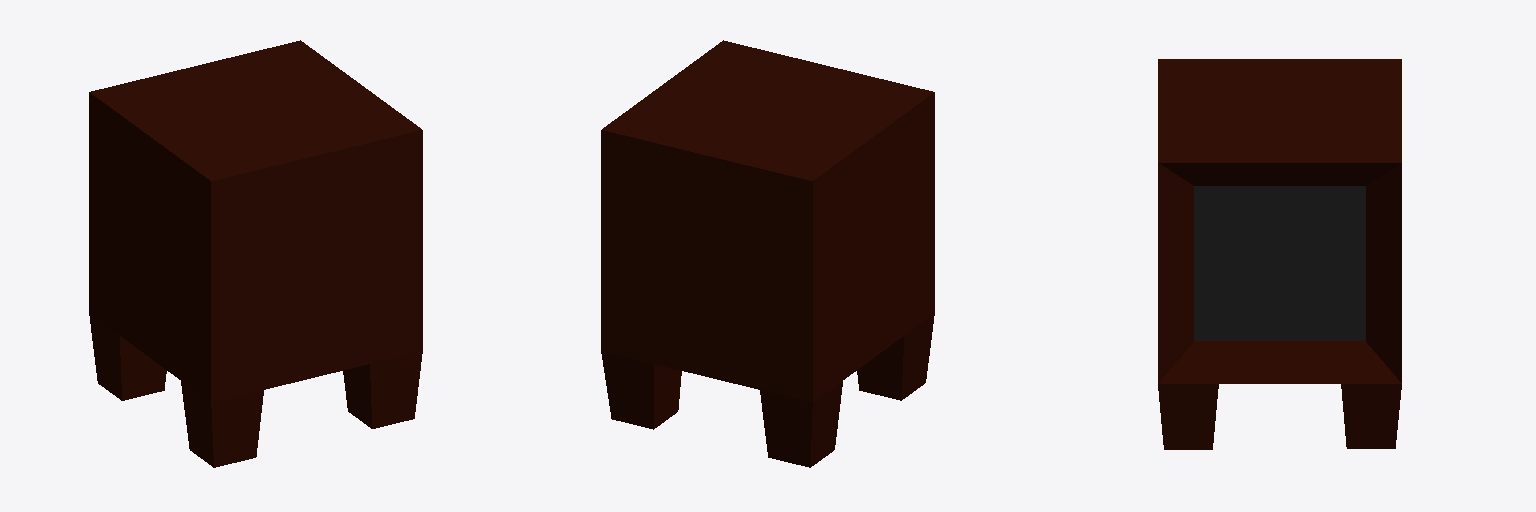
Rendered from Television.obj.
The picture shows the model from 3 angles: view 1: azimuth 30°, elevation 25°; view 2: azimuth 150°, elevation 25°; view 3: azimuth 270°, elevation 25°; orthographic projection.
Visible parts, largest first — view 1: Cube; view 2: Cube; view 3: Cube.
Part boxes in pixels (bbox=[...]): Cube: bbox=[89, 40, 422, 467]; Cube: bbox=[601, 40, 934, 467]; Cube: bbox=[1158, 59, 1401, 449].
Bounding box in the file's own units: 3.22 × 4.22 × 3.22.